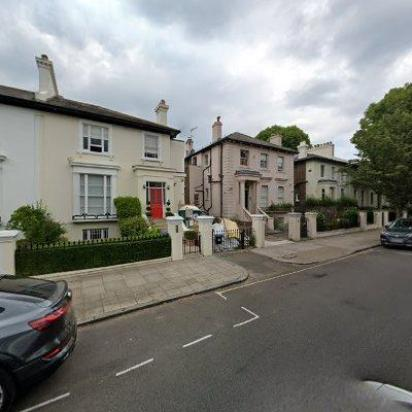stationary-car-onstreet: (0, 272, 78, 412), (378, 216, 412, 252)
